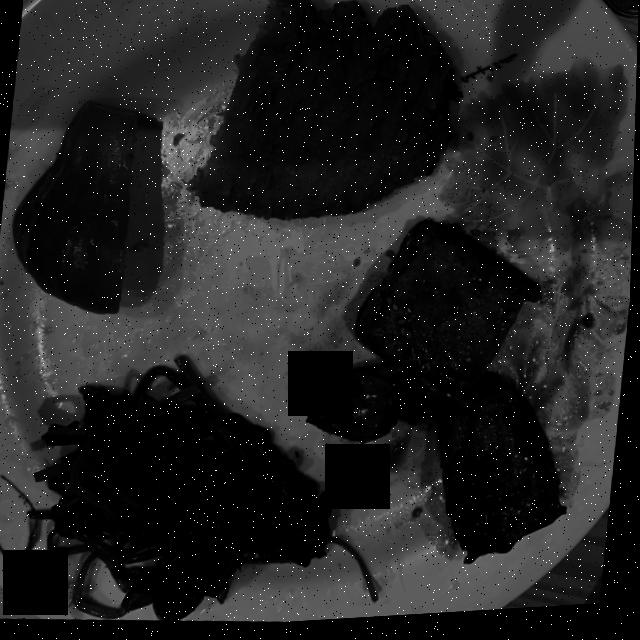coin: (600, 0, 639, 25)
creamy tofu: (308, 225, 567, 569)
fried chicken cutlet: (190, 0, 451, 223)
sweet potato leaves: (27, 360, 334, 623)
